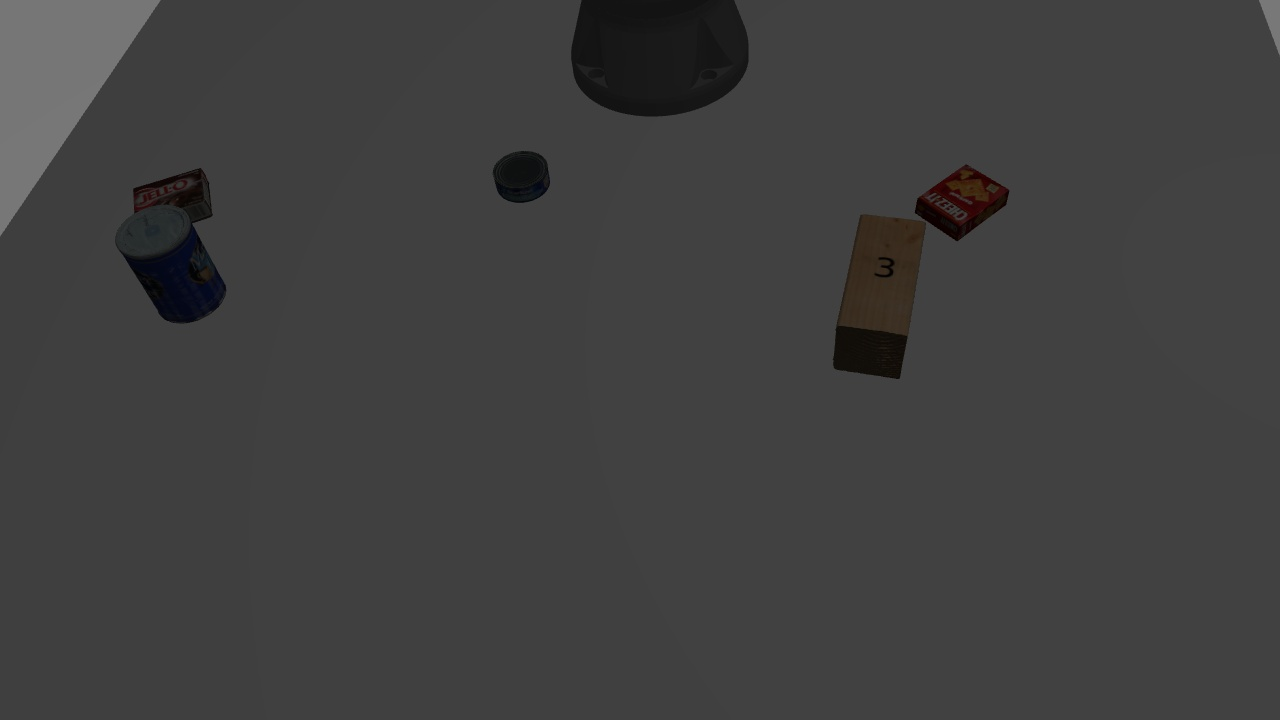cracker_box: (916, 157, 1017, 246)
master_chef_can: (114, 199, 229, 328)
pudding_box: (125, 167, 218, 229)
tuna_fish_can: (494, 147, 555, 203)
wood_block: (822, 211, 928, 387)
